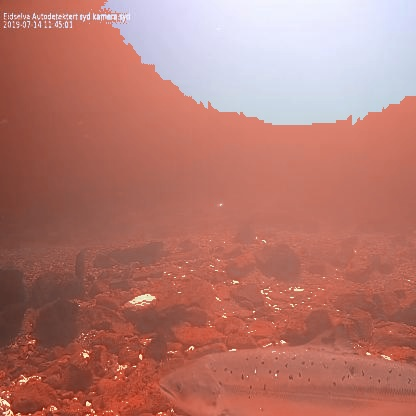salmon: (155, 320, 416, 416)
